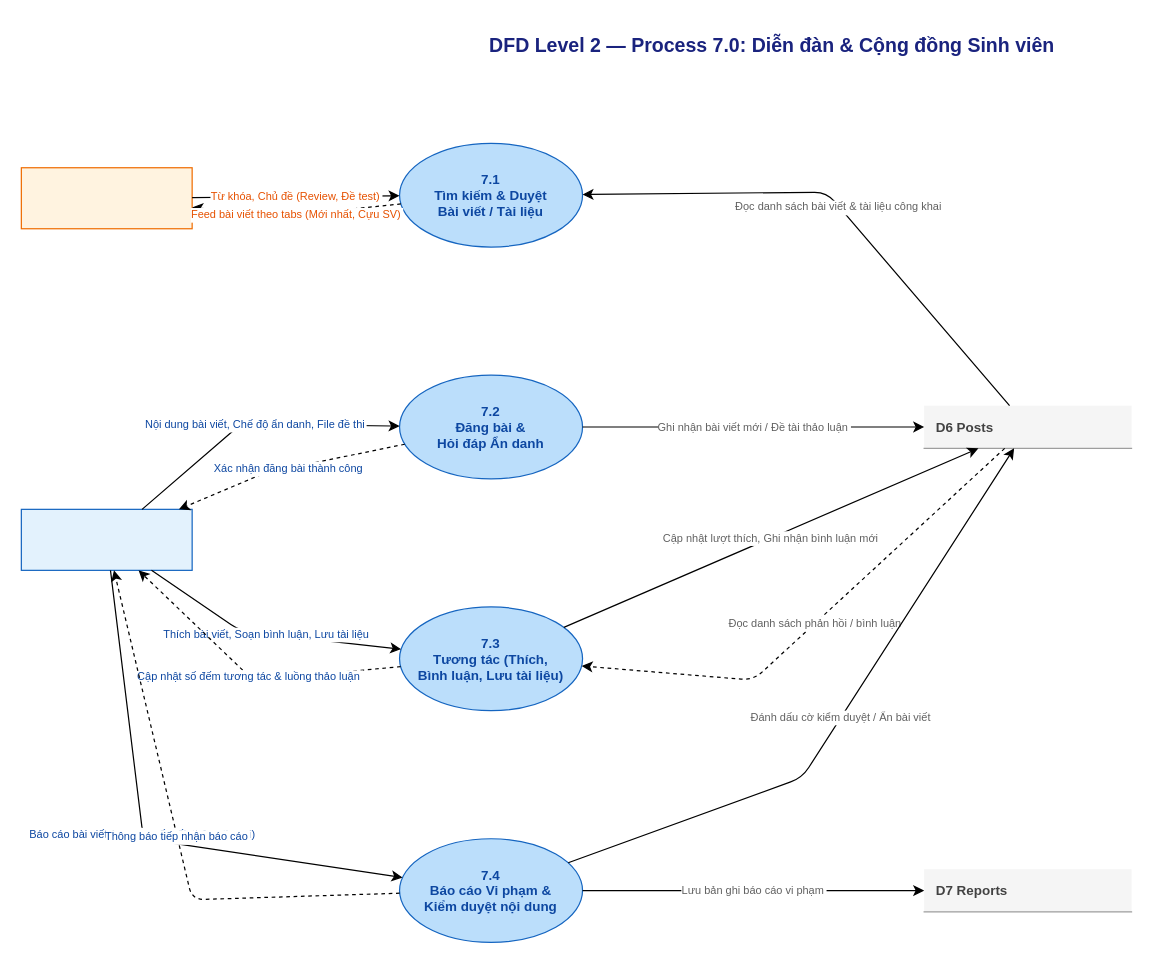
Image size: 1153x964. Some labels were removed from this diagram. Each missing label, with the box of its shape:
CANDIDATE: (20, 508, 192, 570)
GUEST: (20, 167, 192, 229)
